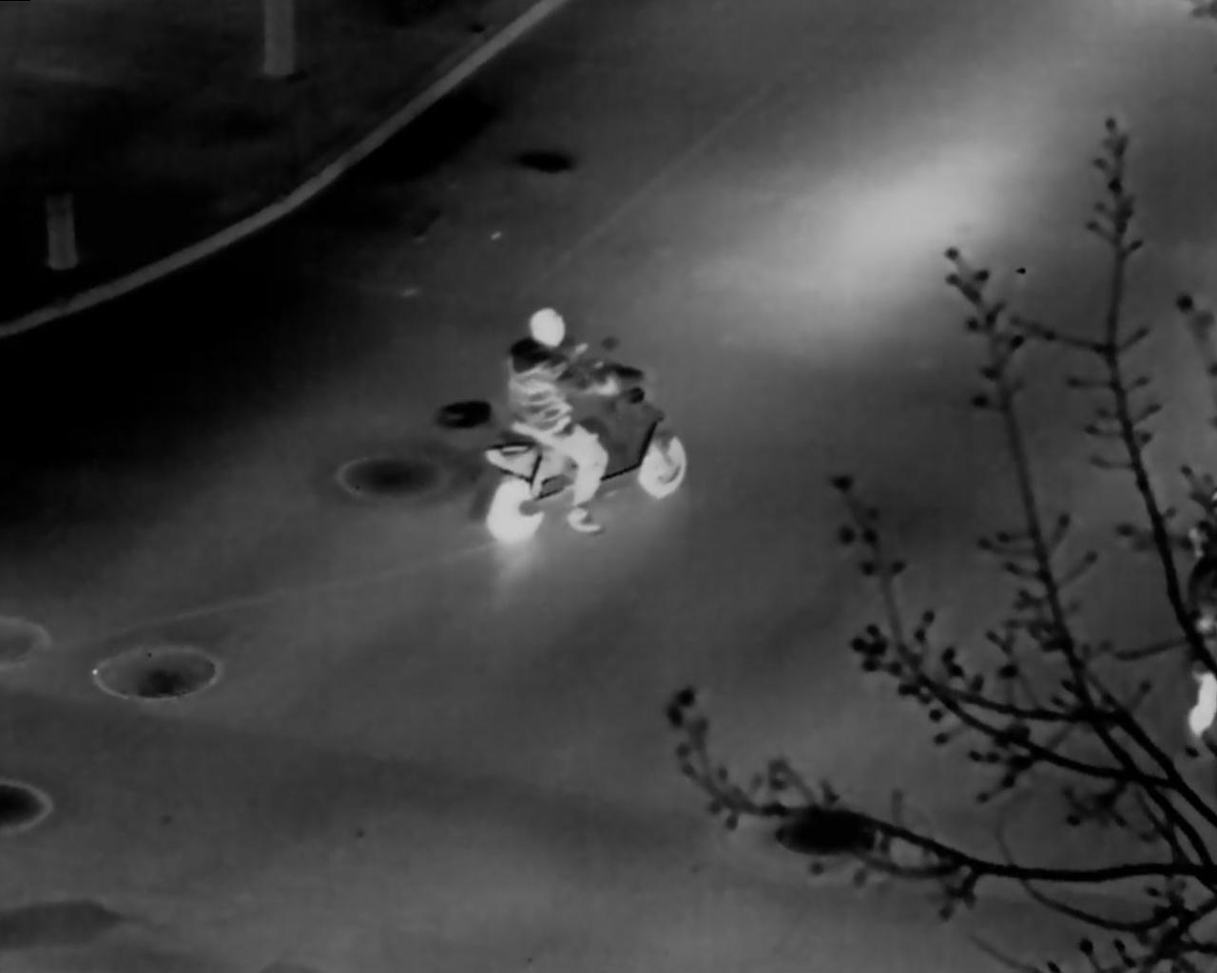person: (501, 304, 623, 541)
